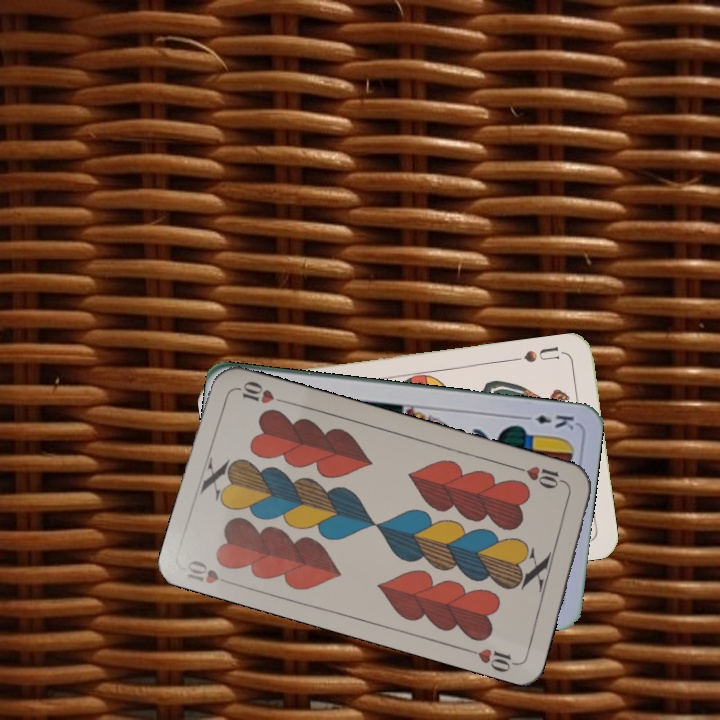EK: (518, 411, 577, 433)
H10: (182, 556, 239, 589), (512, 462, 570, 492)
SU: (509, 342, 568, 365)
